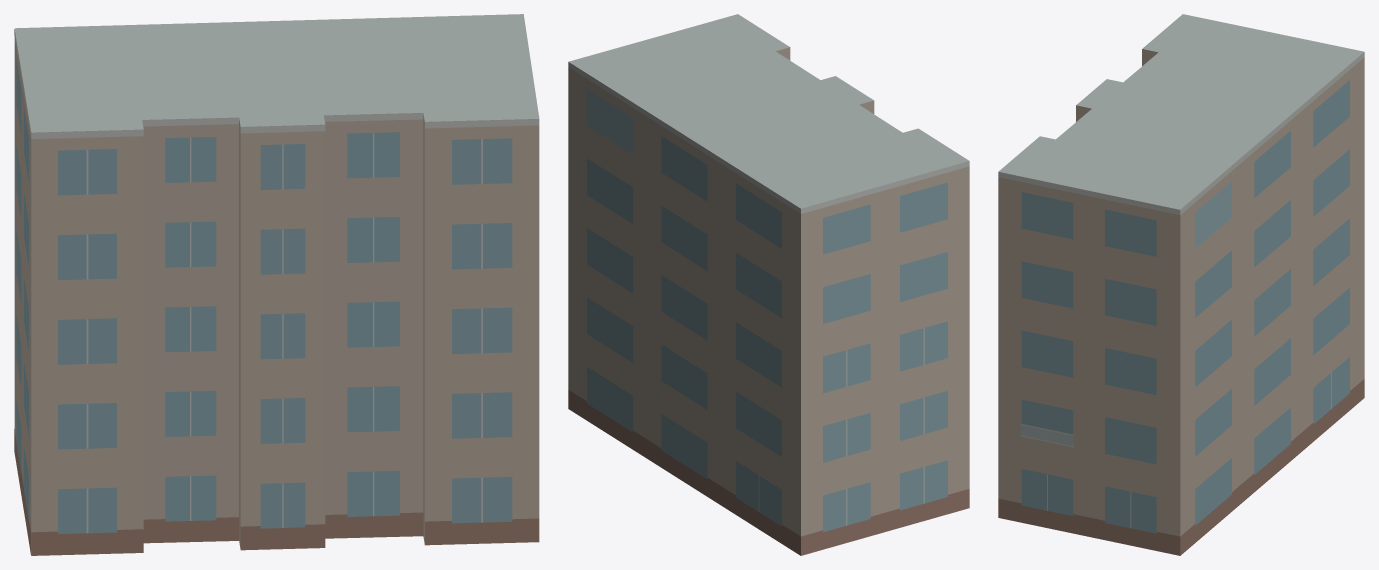
The model's file is survey-upis-32942608.glb.
3 views of the same model, side by side, from view 1: azimuth 30°, elevation 25°; view 2: azimuth 150°, elevation 25°; view 3: azimuth 270°, elevation 25° (orthographic). The views are drawn at different scales.
Visible parts, largest first — view 1: survey-upis-32942608.tmp; view 2: survey-upis-32942608.tmp; view 3: survey-upis-32942608.tmp.
Boxes of the visible parts, x1,y1,x2,y2 form: survey-upis-32942608.tmp: (14,14,539,555); survey-upis-32942608.tmp: (568,14,969,555); survey-upis-32942608.tmp: (998,14,1364,555).
Bounding box in the file's own units: 19.06 × 15.7 × 15.08.
